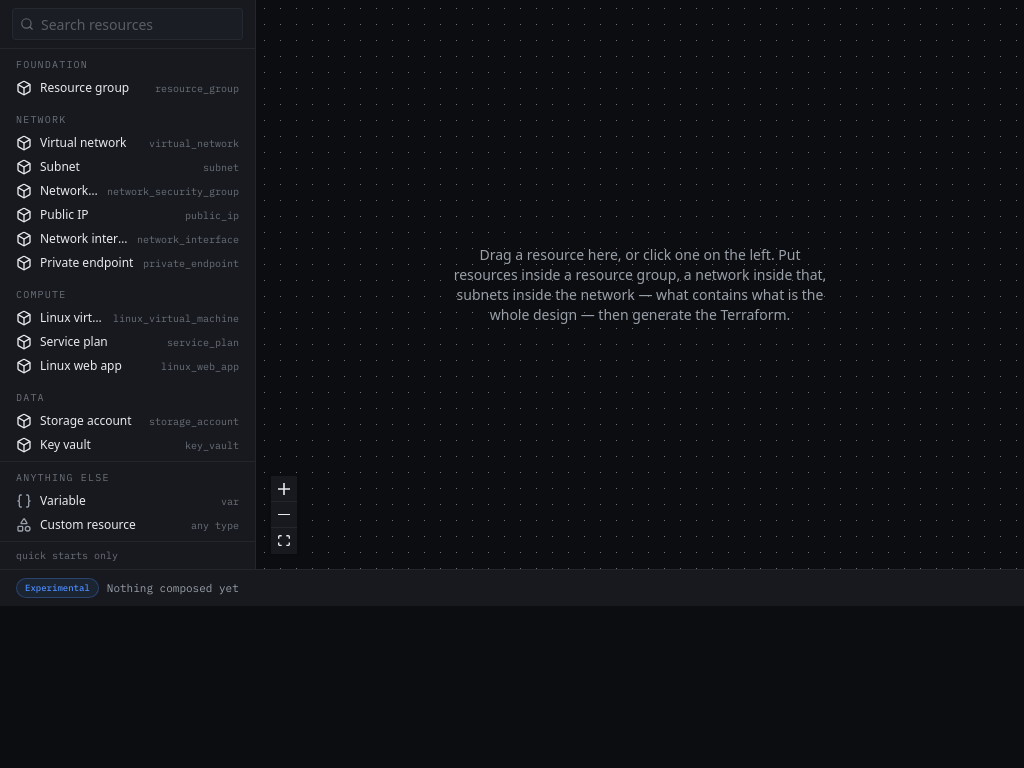
says a slot has nothing to connect to rather than offering nonsense
Click the button "Subnet subnet".
click(128, 167)  # box [0,155,255,179]
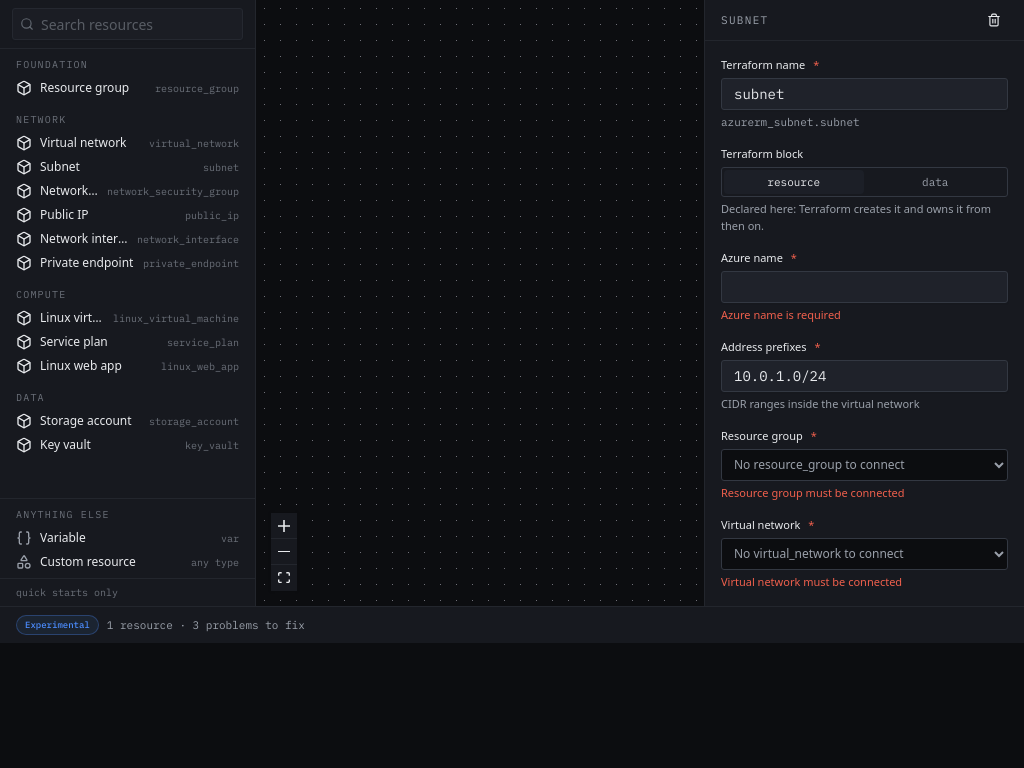
Expected: the dropdown labelled "Virtual network *" is disabled, [721,538,1008,570]
